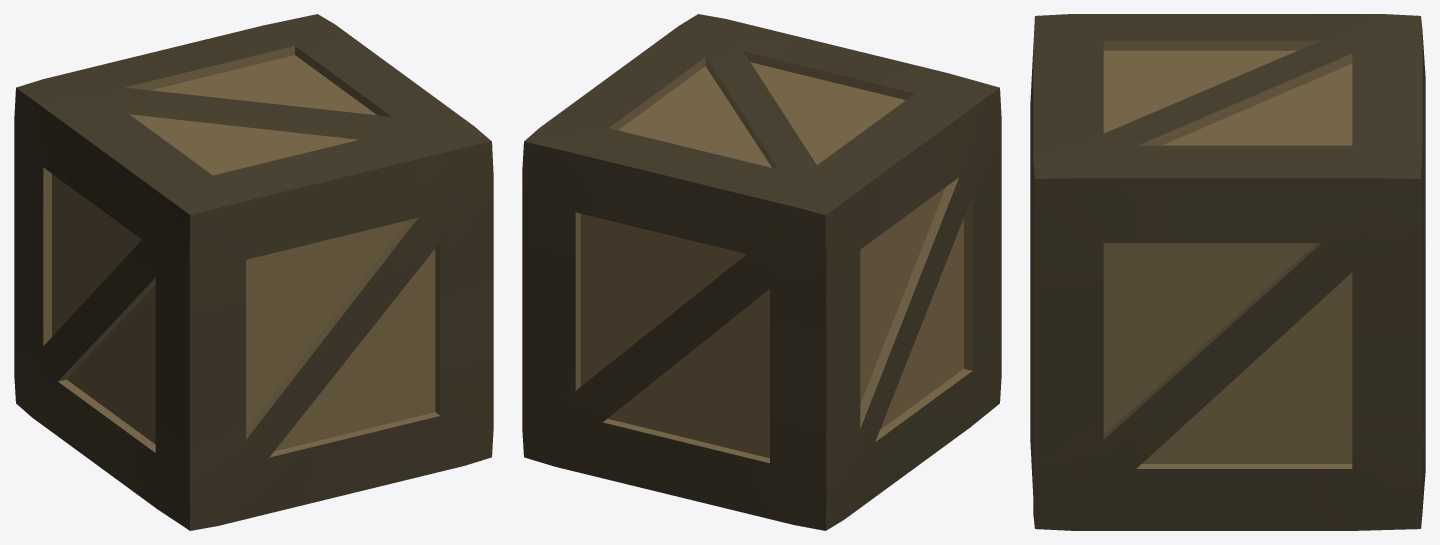
Rendered from Dark_box.fbx.
3 renders of one model, left to right at view 1: azimuth 30°, elevation 25°; view 2: azimuth 150°, elevation 25°; view 3: azimuth 270°, elevation 25°, orthographic. The views are drawn at different scales.
Visible parts, largest first — view 1: pCube1; view 2: pCube1; view 3: pCube1.
Part boxes in pixels (bbox=[...]): pCube1: bbox=[14, 14, 493, 530]; pCube1: bbox=[522, 14, 1001, 530]; pCube1: bbox=[1030, 14, 1425, 530].
Bounding box in the file's own units: 3.01 × 3.01 × 3.01.
